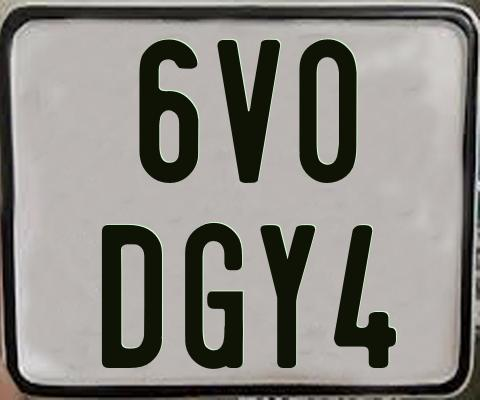0: (297, 39, 358, 183)
4: (333, 223, 399, 371)
6: (138, 38, 202, 187)
D: (100, 224, 162, 373)
G: (183, 221, 241, 370)
V: (215, 40, 281, 187)
Y: (257, 222, 312, 369)
